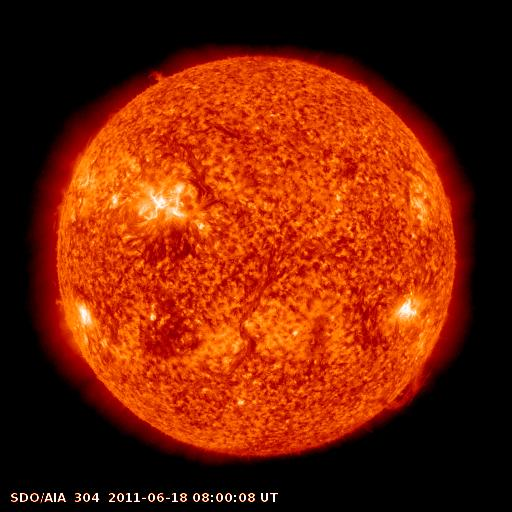prominence: (378, 361, 433, 416), (140, 64, 180, 92)
